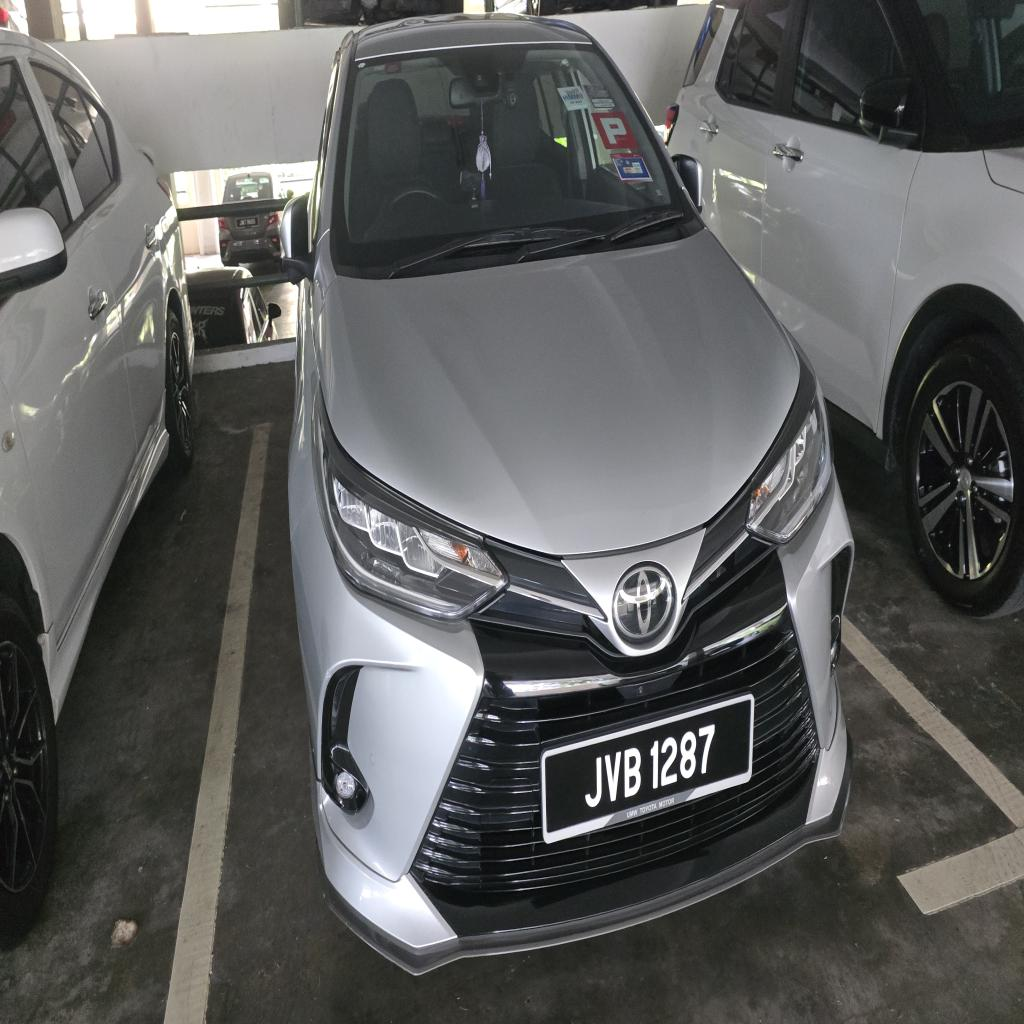car: (282, 17, 852, 972)
car plate: (541, 694, 753, 843)
